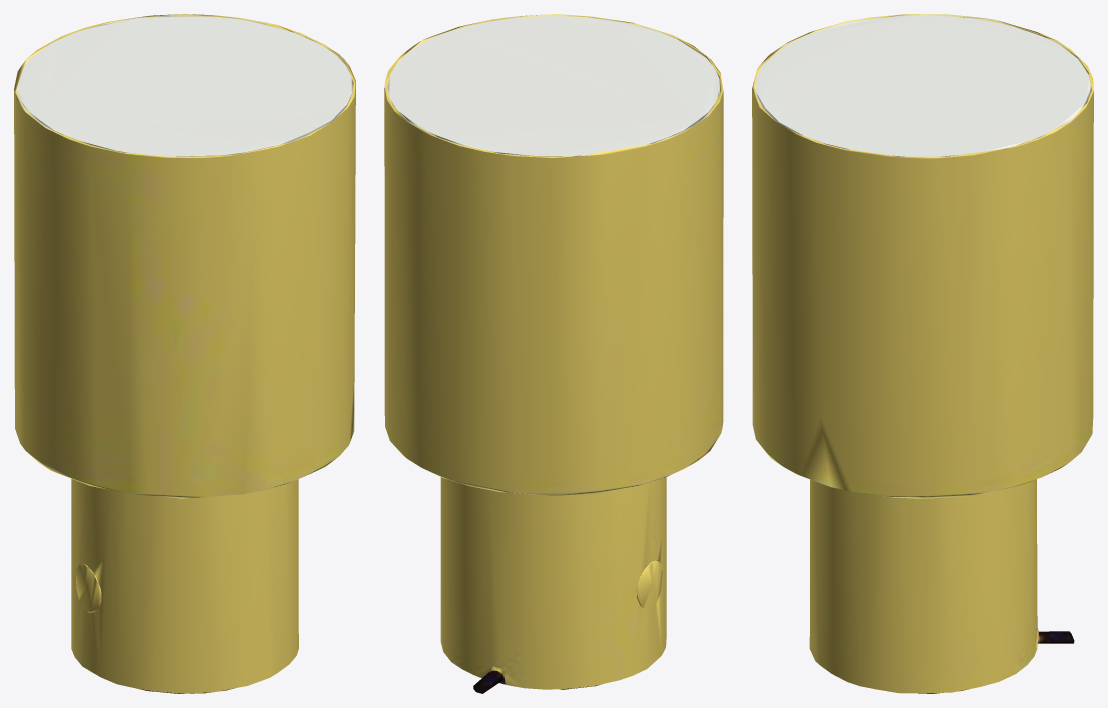
File: 05 - SPETSBOJ Table lamp - dimmableyellow 22 cm.glb
3 renders of one model, left to right at view 1: azimuth 30°, elevation 25°; view 2: azimuth 150°, elevation 25°; view 3: azimuth 270°, elevation 25°, orthographic.
Visible parts, largest first — view 1: ASY_LPT01_40549403_S01_NV01, ASY_ART_40549403_S01_NV01, ASY_LPT02_40549403_S01_NV01, ASY_LPT03_40549403_S01_NV01; view 2: ASY_LPT01_40549403_S01_NV01, ASY_ART_40549403_S01_NV01, ASY_LPT02_40549403_S01_NV01, ASY_LPT03_40549403_S01_NV01; view 3: ASY_LPT01_40549403_S01_NV01, ASY_ART_40549403_S01_NV01, ASY_LPT02_40549403_S01_NV01.
Part boxes in pixels (x1=…): ASY_LPT01_40549403_S01_NV01: x1=14, y1=14, x2=355, y2=498; ASY_ART_40549403_S01_NV01: x1=71, y1=479, x2=298, y2=693; ASY_LPT02_40549403_S01_NV01: x1=17, y1=16, x2=351, y2=156; ASY_LPT03_40549403_S01_NV01: x1=76, y1=563, x2=101, y2=612; ASY_LPT01_40549403_S01_NV01: x1=384, y1=14, x2=723, y2=495; ASY_ART_40549403_S01_NV01: x1=440, y1=477, x2=666, y2=693; ASY_LPT02_40549403_S01_NV01: x1=387, y1=16, x2=719, y2=156; ASY_LPT03_40549403_S01_NV01: x1=637, y1=560, x2=662, y2=608; ASY_LPT01_40549403_S01_NV01: x1=752, y1=14, x2=1093, y2=498; ASY_ART_40549403_S01_NV01: x1=809, y1=479, x2=1074, y2=693; ASY_LPT02_40549403_S01_NV01: x1=756, y1=15, x2=1090, y2=156.
Bounding box in the file's own units: 0.1199 × 0.2187 × 0.12.
4 materials, 4 textured.
